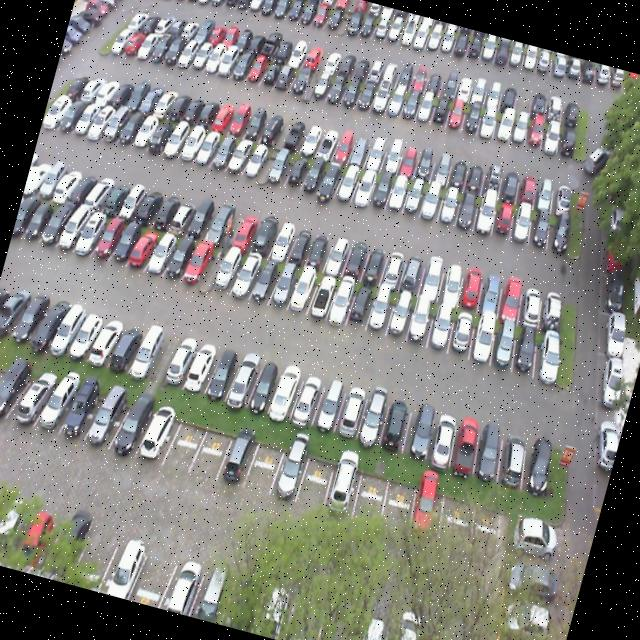empty: (188, 424, 234, 486), (162, 415, 208, 474), (243, 438, 284, 499)
occupied: (54, 382, 106, 448), (82, 388, 132, 455), (5, 369, 54, 432), (106, 396, 154, 460), (31, 378, 80, 440), (516, 428, 561, 491), (200, 344, 246, 405), (470, 418, 512, 484), (266, 446, 310, 509), (136, 405, 182, 464), (216, 430, 260, 490), (494, 422, 534, 486), (447, 412, 488, 474), (45, 298, 87, 358), (224, 247, 266, 306), (124, 218, 166, 276), (142, 220, 182, 279), (400, 403, 440, 462), (424, 408, 464, 467), (86, 314, 127, 371), (158, 230, 198, 288), (244, 358, 284, 416), (288, 368, 326, 429), (64, 307, 105, 363), (224, 351, 263, 408), (334, 380, 371, 440), (265, 256, 303, 314), (179, 234, 216, 292), (356, 386, 393, 444), (379, 396, 416, 454), (529, 326, 568, 381), (108, 318, 146, 374), (182, 338, 220, 394), (127, 328, 166, 382), (310, 375, 348, 430), (108, 213, 145, 269), (266, 364, 302, 421), (244, 255, 281, 310), (208, 244, 242, 302), (486, 317, 523, 370), (496, 271, 532, 325), (160, 336, 198, 387), (456, 260, 490, 312), (286, 266, 318, 320), (467, 314, 500, 366), (148, 187, 185, 233), (508, 326, 542, 376), (306, 272, 338, 325), (0, 364, 30, 420), (438, 258, 470, 310), (406, 296, 438, 348), (223, 131, 257, 179), (166, 192, 200, 240), (538, 285, 572, 333), (445, 310, 479, 358), (132, 184, 168, 229), (518, 278, 550, 328), (324, 278, 356, 328), (364, 288, 396, 338), (384, 293, 416, 343), (426, 305, 458, 355), (419, 250, 450, 300), (192, 124, 224, 172), (208, 128, 240, 176), (476, 268, 508, 316), (205, 205, 239, 250), (302, 227, 336, 272), (245, 214, 278, 260), (240, 138, 272, 184), (266, 143, 298, 189), (544, 208, 576, 254), (396, 248, 428, 294), (185, 200, 220, 242), (176, 120, 209, 164), (359, 239, 389, 287), (347, 283, 376, 332), (230, 212, 262, 255), (322, 232, 353, 276), (268, 218, 300, 260), (285, 224, 316, 266), (316, 156, 344, 202), (340, 238, 370, 280), (378, 248, 408, 290), (333, 162, 361, 205), (526, 208, 556, 248), (301, 154, 328, 198), (511, 202, 538, 246), (402, 177, 429, 220), (491, 201, 520, 241), (286, 150, 312, 192), (455, 192, 482, 231), (421, 182, 446, 224), (367, 172, 393, 212), (438, 187, 464, 226), (350, 168, 376, 206), (474, 196, 500, 233), (386, 174, 410, 212)
